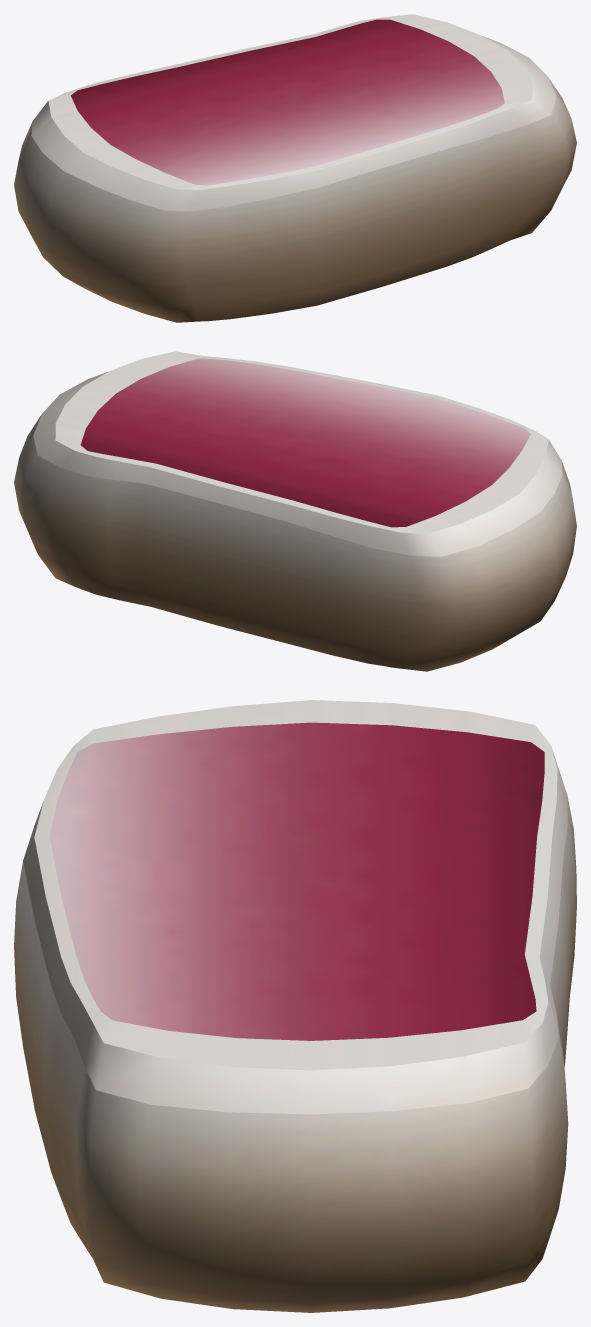
Rendered from M_TerrainBlock_06.fbx.
3 renders of one model, top to bottom at view 1: azimuth 30°, elevation 25°; view 2: azimuth 150°, elevation 25°; view 3: azimuth 270°, elevation 25°, orthographic. The views are drawn at different scales.
Parts seen in each view (by area): view 1: M_TerrainBlock_06; view 2: M_TerrainBlock_06; view 3: M_TerrainBlock_06.
Part boxes in pixels (x1,y1,x2,y2): M_TerrainBlock_06: (14, 14, 576, 322); M_TerrainBlock_06: (14, 351, 576, 671); M_TerrainBlock_06: (14, 700, 576, 1312).
Bounding box in the file's own units: 8697 × 2448 × 4729.
1 material, 1 textured.
